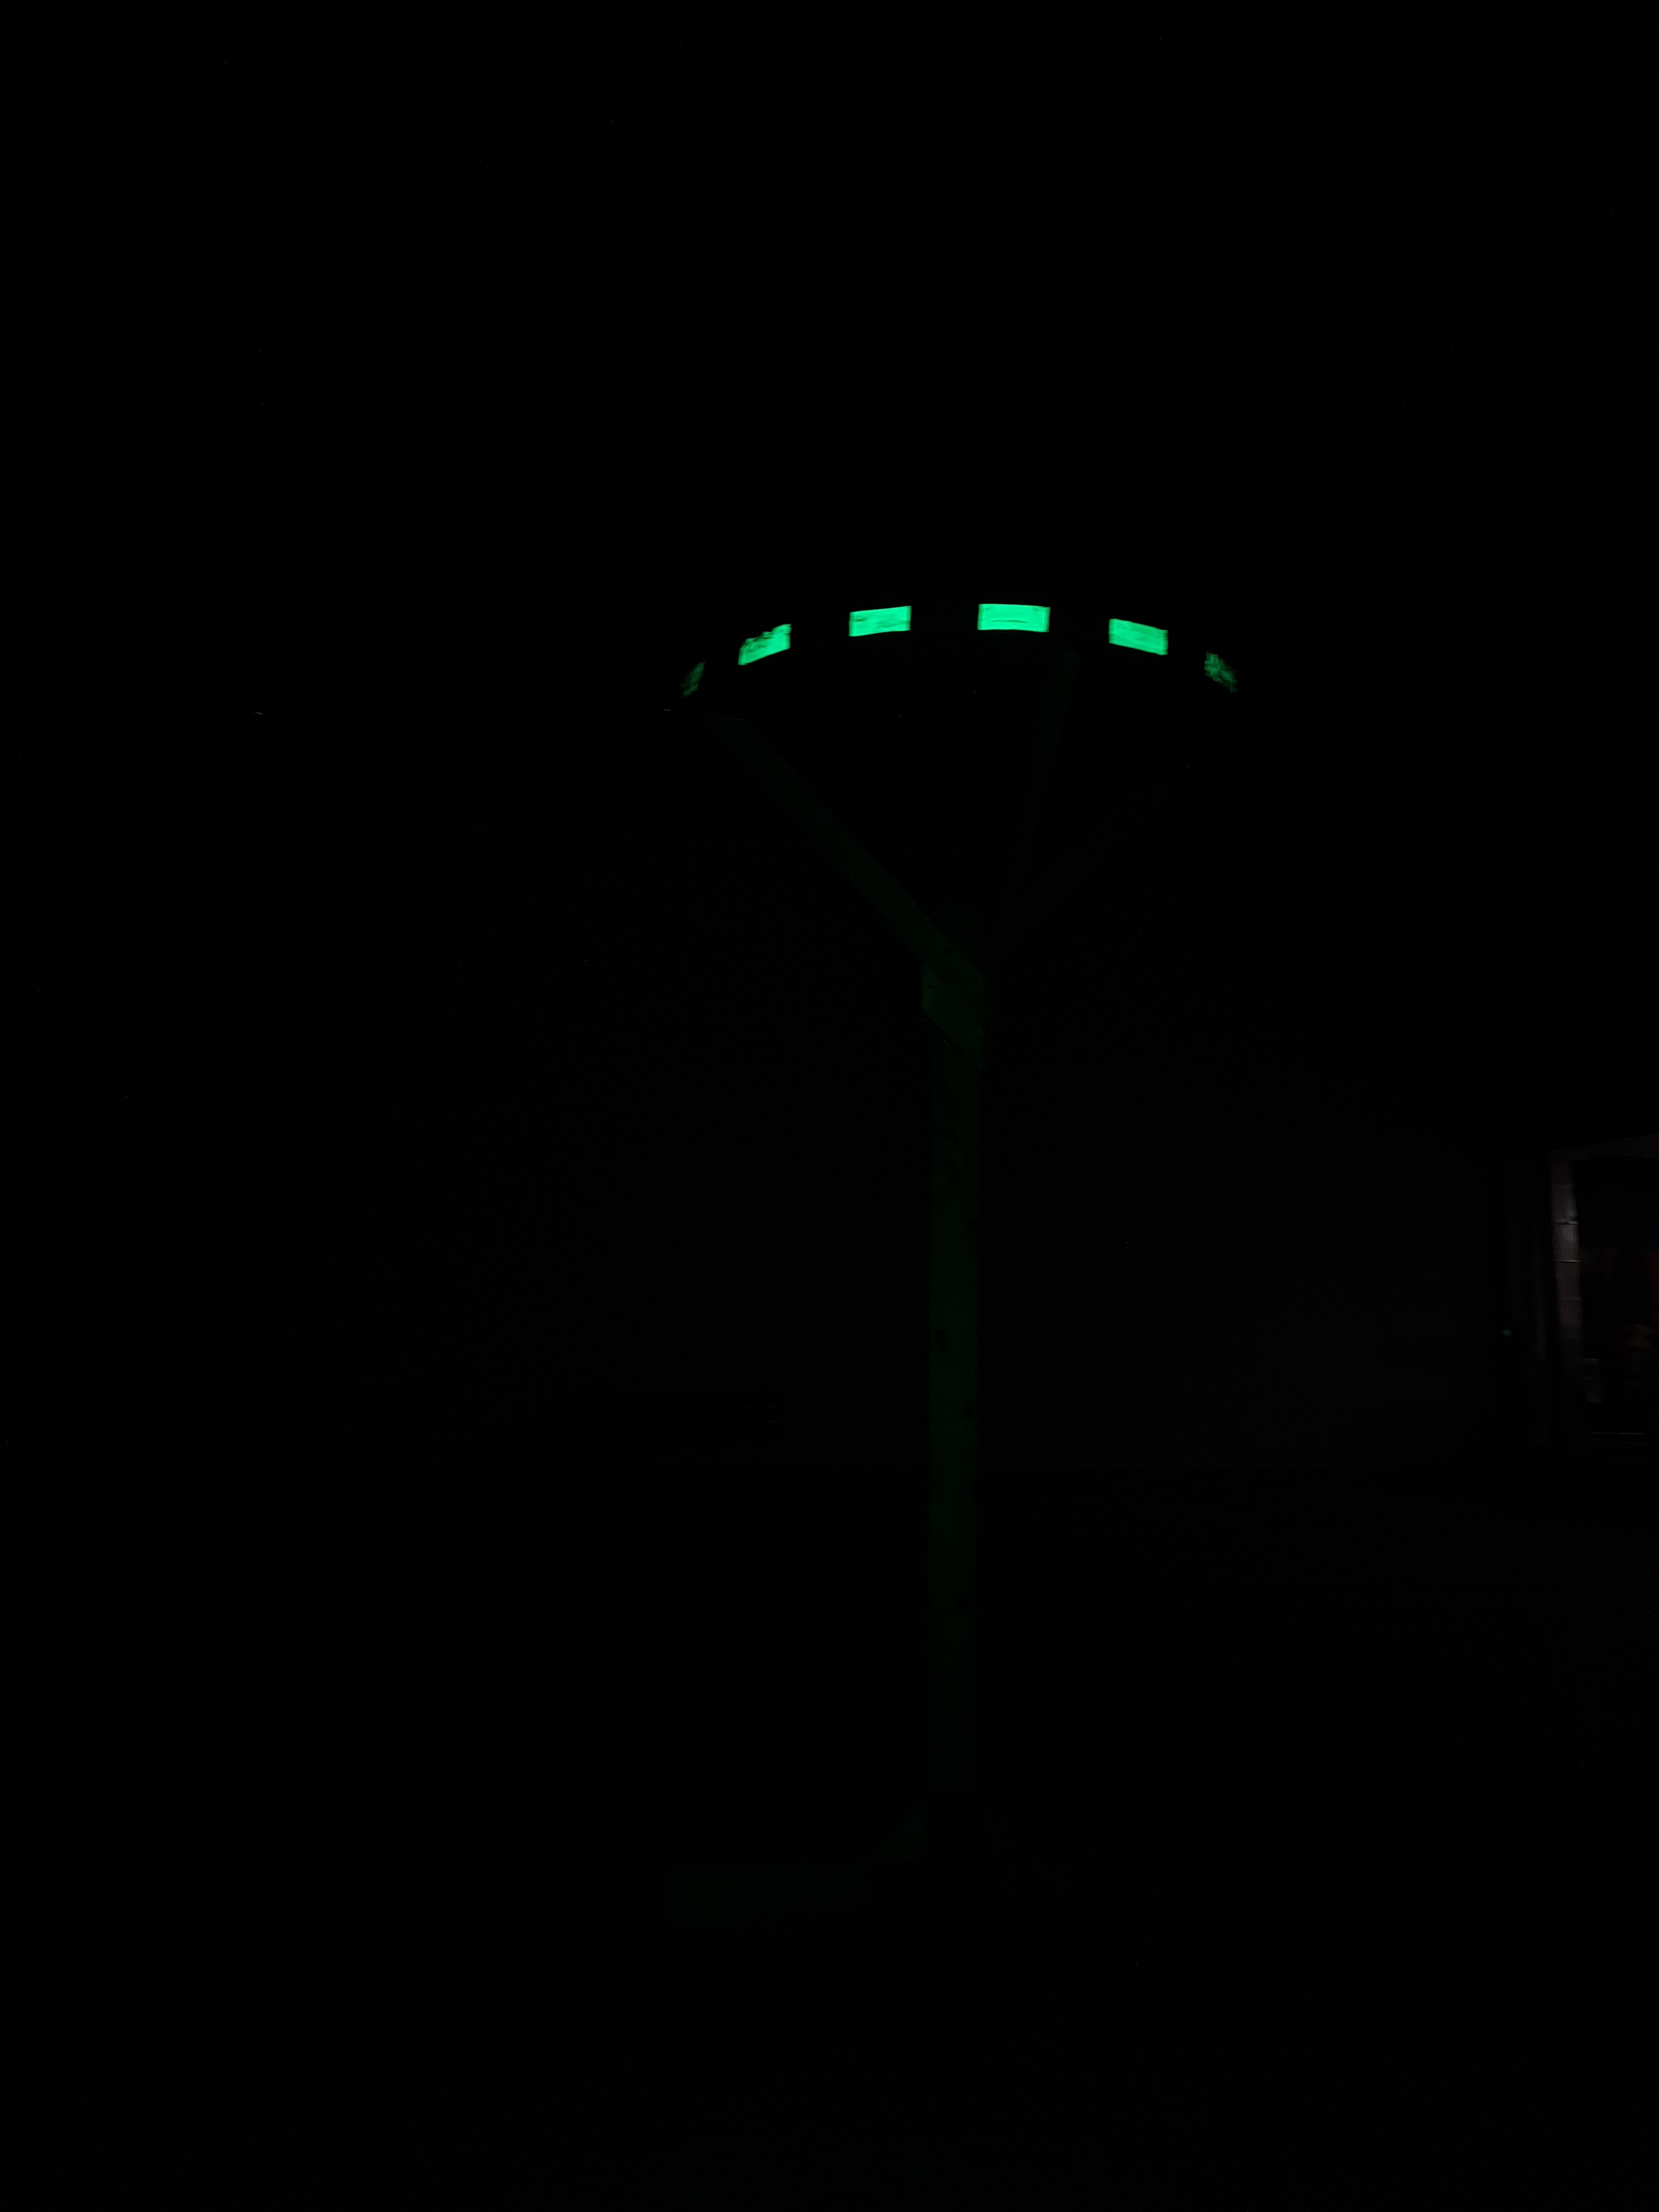hoop: (723, 599, 1237, 685)
